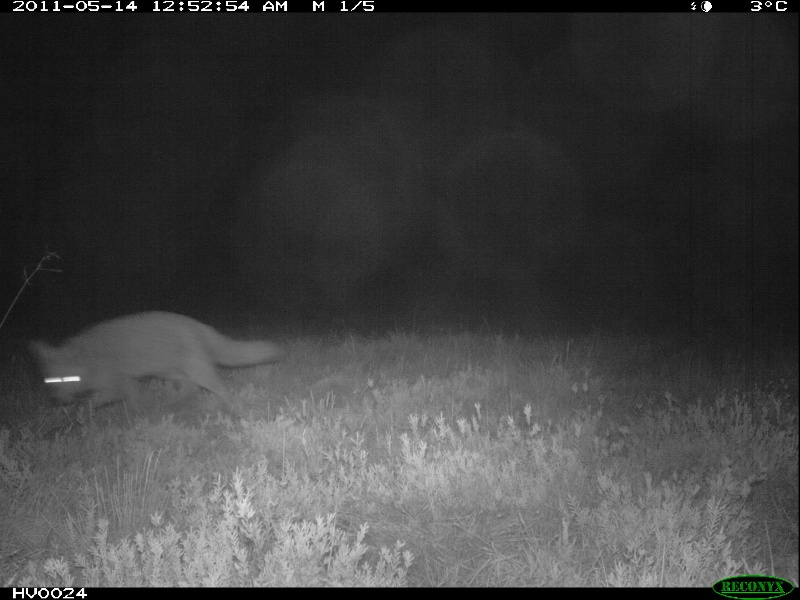fox: (28, 310, 283, 426)
